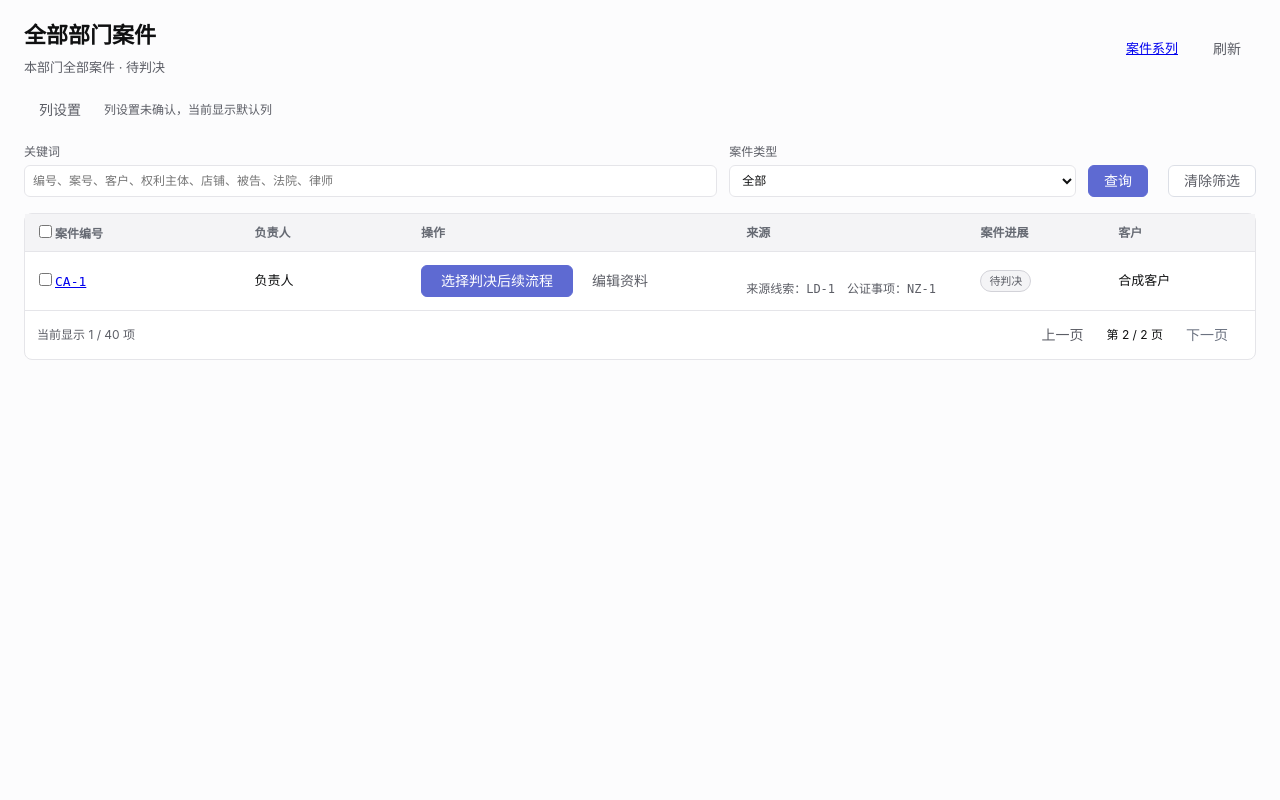
Scenario: case list workflow session › requires an explicit branch, posts from the row, and reloads once at the same page/filter
This screenshot has width=1280, height=800.
Step 1. Click the button "选择判决后续流程" → (497, 281), box [421, 265, 573, 297]
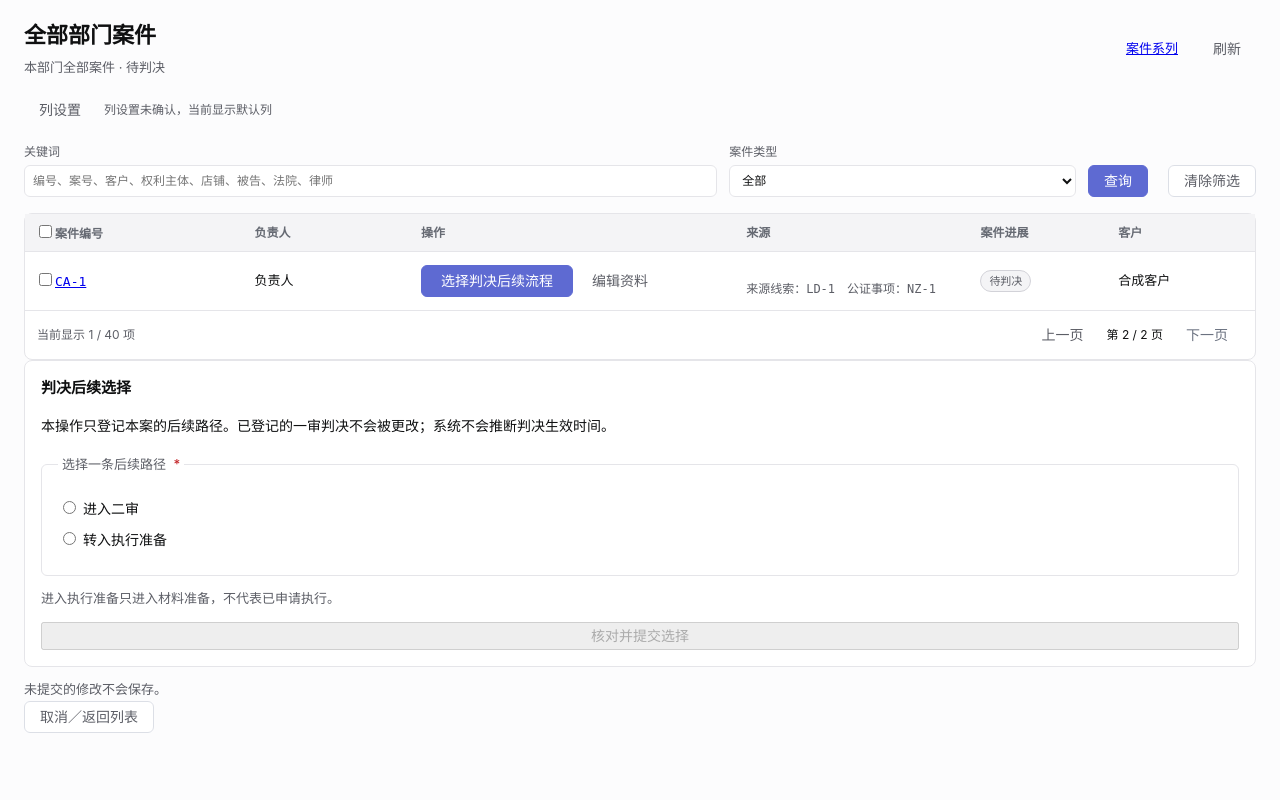
Now the submit button is disabled, box [41, 622, 1239, 650]
Step 2. Click the radio button labelled "进入二审" → (70, 508), box [63, 502, 76, 514]
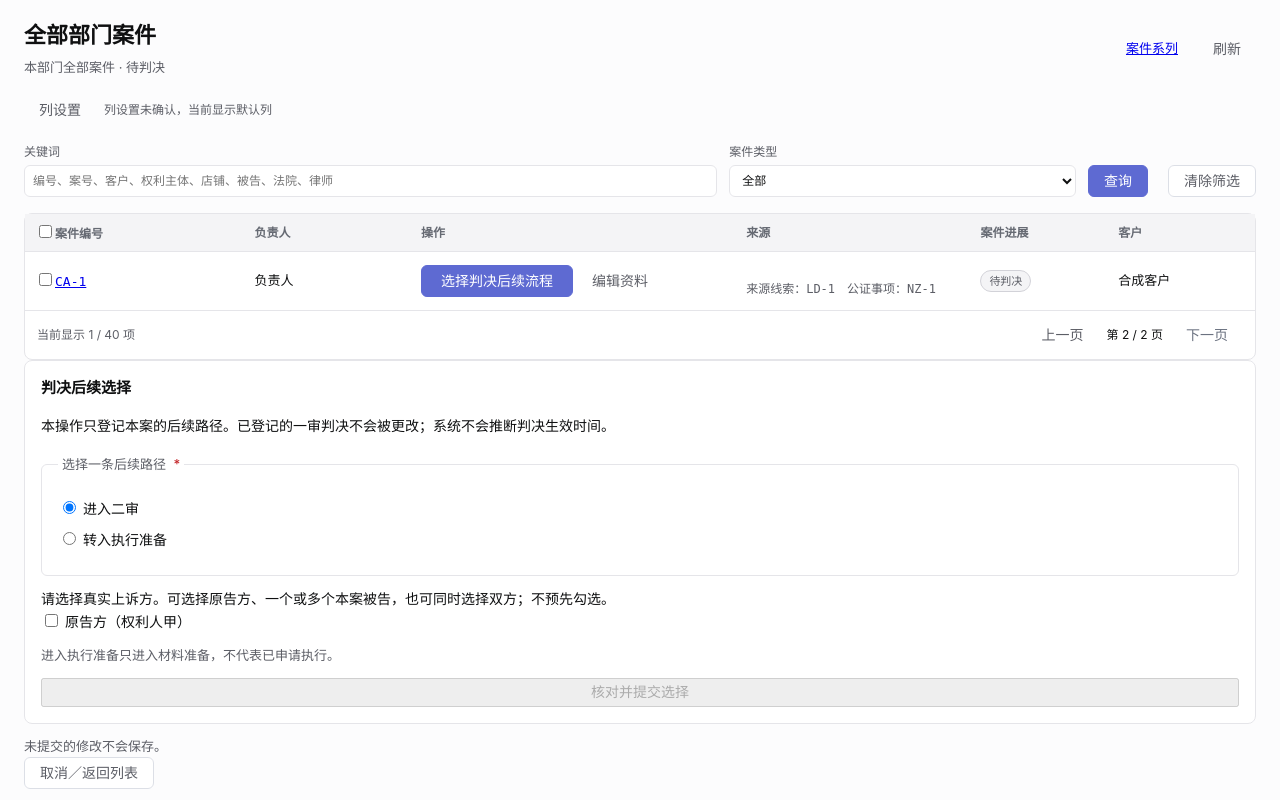
Now the submit button is disabled, box [41, 678, 1239, 707]
Step 3. Click the checkbox labelled "原告方（权利人甲）" → (52, 620), box [45, 614, 58, 627]
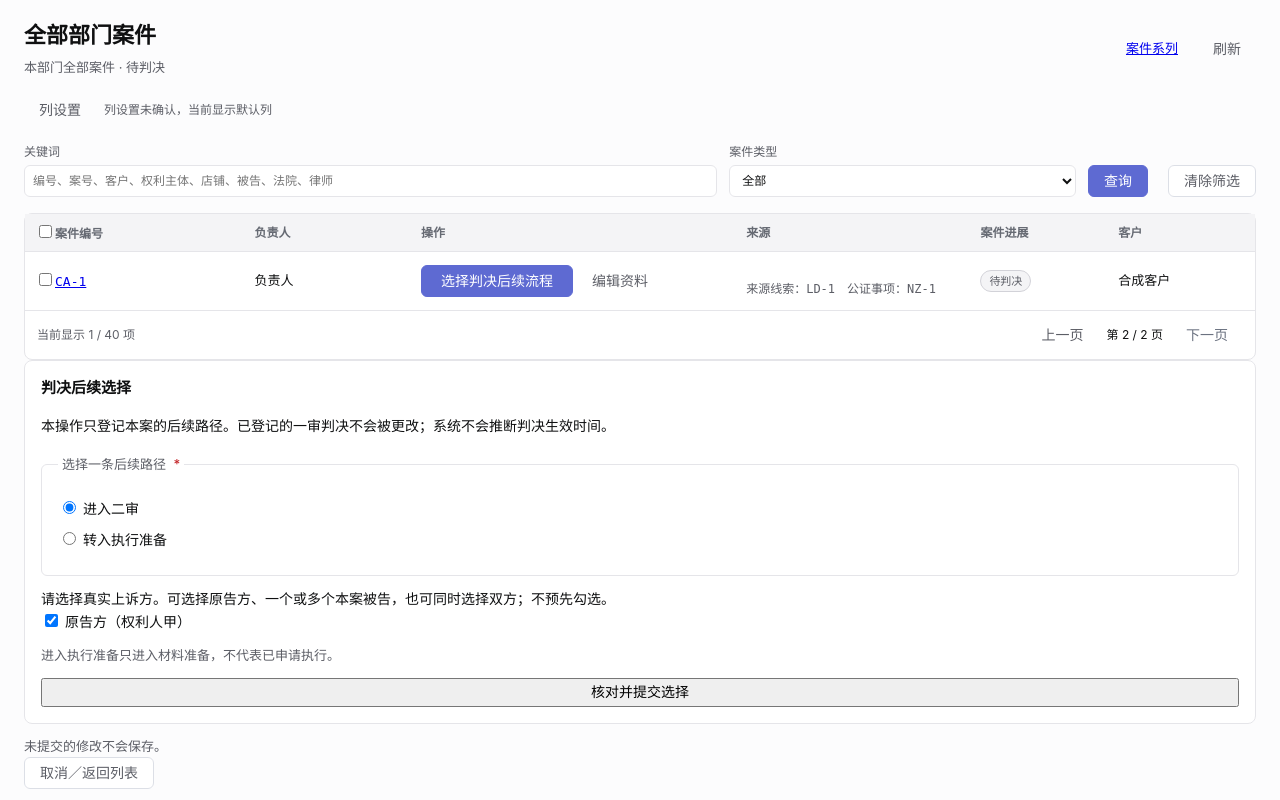
Step 4. Submit the form that starts with "选择一条后续路径", box [41, 454, 1239, 707]
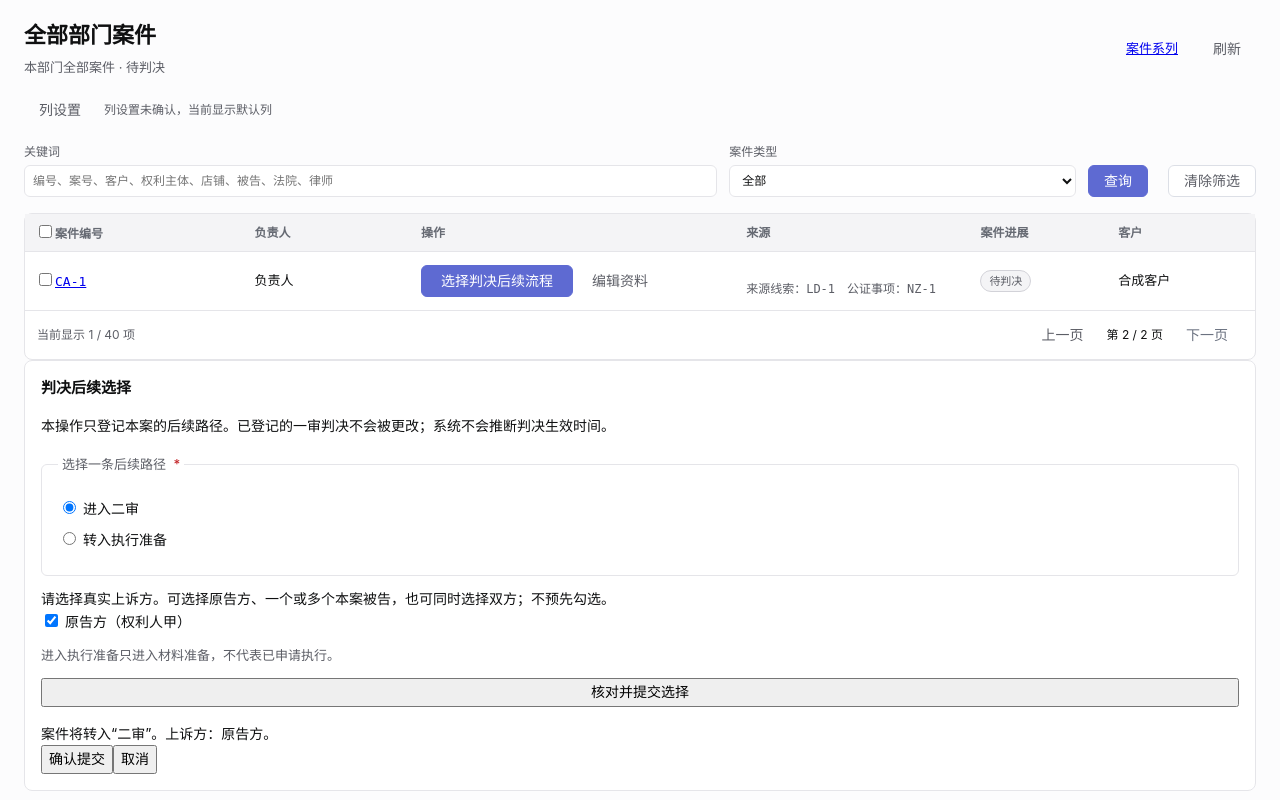
Step 5. Click the button "确认提交" → (77, 760), box [41, 745, 113, 774]
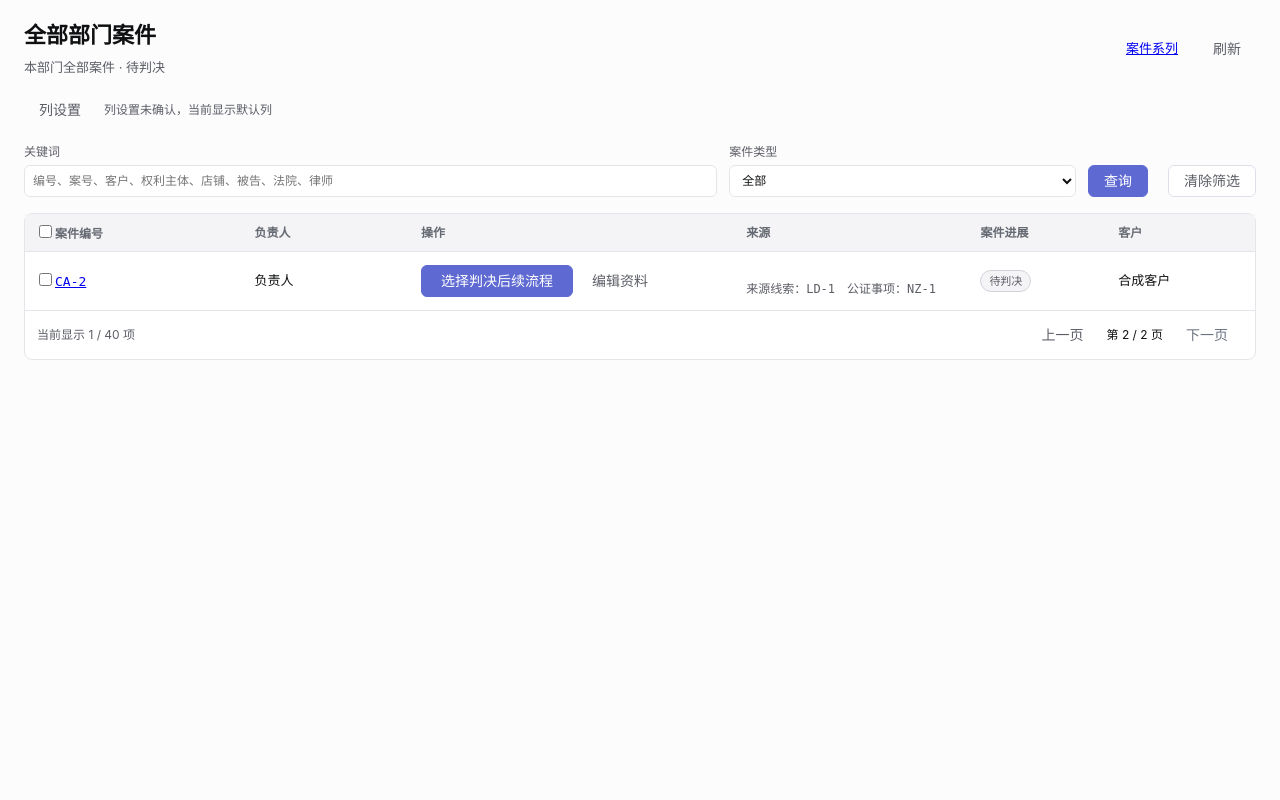
Now the link "CA-1" no longer shows "CA-1"
